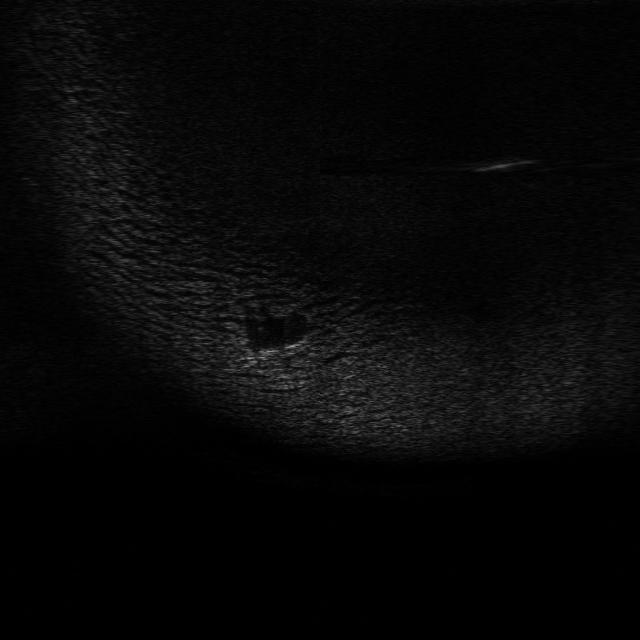plane: (238, 341, 310, 371)
